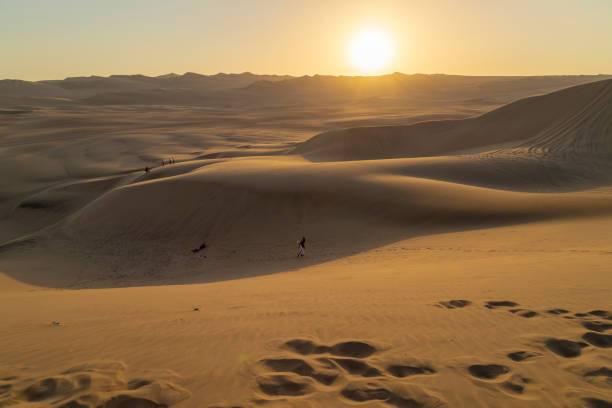human_footprint: (210, 339, 446, 407), (0, 361, 190, 407)
